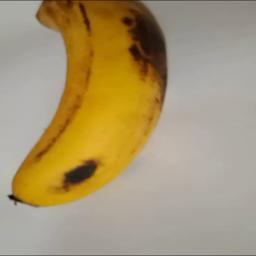Banana Semifresh: (0, 1, 170, 203)
